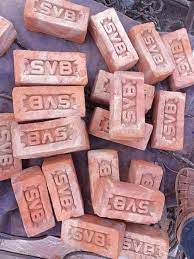brick: (11, 115, 85, 158), (13, 175, 57, 238), (13, 84, 86, 118), (13, 51, 88, 84), (42, 160, 83, 219), (93, 8, 136, 64), (100, 189, 165, 224), (133, 21, 175, 74), (23, 0, 88, 32), (63, 220, 118, 257), (113, 72, 144, 135), (153, 90, 184, 149), (165, 29, 193, 86), (90, 149, 119, 200), (121, 235, 170, 258)
